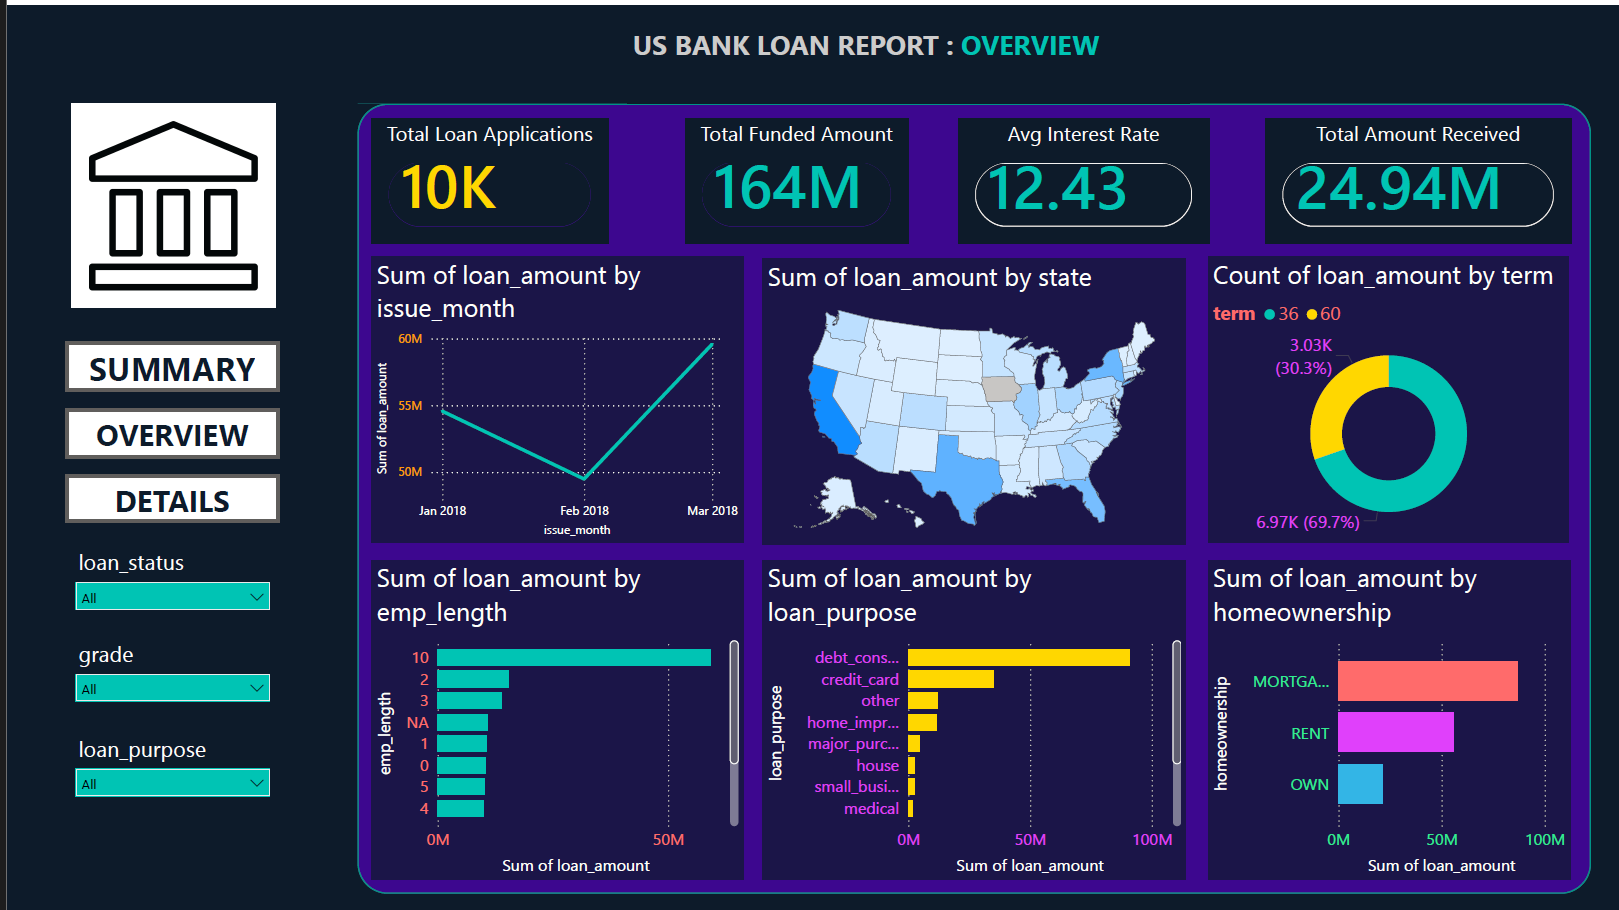

The page's visual inventory and layout, read from the dashboard file:
{"tool":"powerbi","page":{"name":"OVERVIEW","canvas":[1600,900],"ordinal":1},"visuals":[{"type":"shape","box":[348,98,1224,784],"z":0},{"type":"actionButton","box":[58,334,212,50],"z":1000},{"type":"actionButton","box":[58,400,212,50],"z":2000},{"type":"actionButton","box":[58,466,212,48],"z":3000},{"type":"image","box":[36,98,258,202],"z":4000},{"type":"textbox","box":[616,16,558,82],"z":5000},{"type":"slicer","fields":{"Values":["loans_full_schema.loan_status"]},"box":[58.2,532.7,212.7,69.1],"z":6000},{"type":"slicer","fields":{"Values":["loans_full_schema.grade"]},"box":[58.2,623.6,212.7,69.1],"z":7000},{"type":"slicer","fields":{"Values":["loans_full_schema.loan_purpose"]},"box":[58.2,718.2,212.7,69.1],"z":8000},{"type":"cardVisual","title":"Total Loan Applications","fields":{"Data":["CountNonNull(loans_full_schema.loan_amount)"]},"box":[361.8,112.7,234.5,123.6],"z":9000},{"type":"cardVisual","title":"Total Funded Amount","fields":{"Data":["Sum(loans_full_schema.loan_amount)"]},"box":[672.7,112.7,221.8,123.6],"z":10000},{"type":"cardVisual","title":"Avg Interest Rate","fields":{"Data":["Avg(loans_full_schema.interest_rate)"]},"box":[943.6,112.7,249.1,123.6],"z":11000},{"type":"cardVisual","title":"Total Amount Received","fields":{"Data":["Sum(loans_full_schema.paid_total)"]},"box":[1249.1,112.7,303.6,123.6],"z":12000},{"type":"lineChart","fields":{"Category":["loans_full_schema.issue_month"],"Y":["Sum(loans_full_schema.loan_amount)"]},"box":[361.9,250.4,368.8,283],"z":13000},{"type":"shapeMap","fields":{"Category":["loans_full_schema.state"],"Value":["Sum(loans_full_schema.loan_amount)"]},"box":[749.6,252.1,420.2,283],"z":14000},{"type":"donutChart","fields":{"Category":["loans_full_schema.term"],"Y":["CountNonNull(loans_full_schema.loan_amount)"]},"box":[1192.1,250.4,358.5,283],"z":15000},{"type":"clusteredBarChart","fields":{"Category":["loans_full_schema.emp_length"],"Y":["Sum(loans_full_schema.loan_amount)"]},"box":[361.9,550.6,368.8,317.3],"z":16000},{"type":"clusteredBarChart","fields":{"Category":["loans_full_schema.loan_purpose"],"Y":["Sum(loans_full_schema.loan_amount)"]},"box":[749.6,550.6,420.2,317.3],"z":17000},{"type":"clusteredBarChart","fields":{"Category":["loans_full_schema.homeownership"],"Y":["Sum(loans_full_schema.loan_amount)"]},"box":[1192.1,550.6,360.2,317.3],"z":18000}]}

Visuals, with their boxes in screenshot pixels (x1, y1, x2, y2), scaled from the page's 1600x900 canvas onto the 1619x910 screenshot:
shape: 352/99/1591/892
actionButton: 59/338/273/388
actionButton: 59/404/273/455
actionButton: 59/471/273/520
image: 36/99/297/303
textbox: 623/16/1188/99
slicer - loans_full_schema.loan_status: 59/539/274/608
slicer - loans_full_schema.grade: 59/631/274/700
slicer - loans_full_schema.loan_purpose: 59/726/274/796
"Total Loan Applications" cardVisual: 366/114/603/239
"Total Funded Amount" cardVisual: 681/114/905/239
"Avg Interest Rate" cardVisual: 955/114/1207/239
"Total Amount Received" cardVisual: 1264/114/1571/239
lineChart - loans_full_schema.issue_month x Sum(loans_full_schema.loan_amount): 366/253/739/539
shapeMap - loans_full_schema.state x Sum(loans_full_schema.loan_amount): 759/255/1184/541
donutChart - loans_full_schema.term x CountNonNull(loans_full_schema.loan_amount): 1206/253/1569/539
clusteredBarChart - loans_full_schema.emp_length x Sum(loans_full_schema.loan_amount): 366/557/739/878
clusteredBarChart - loans_full_schema.loan_purpose x Sum(loans_full_schema.loan_amount): 759/557/1184/878
clusteredBarChart - loans_full_schema.homeownership x Sum(loans_full_schema.loan_amount): 1206/557/1571/878
